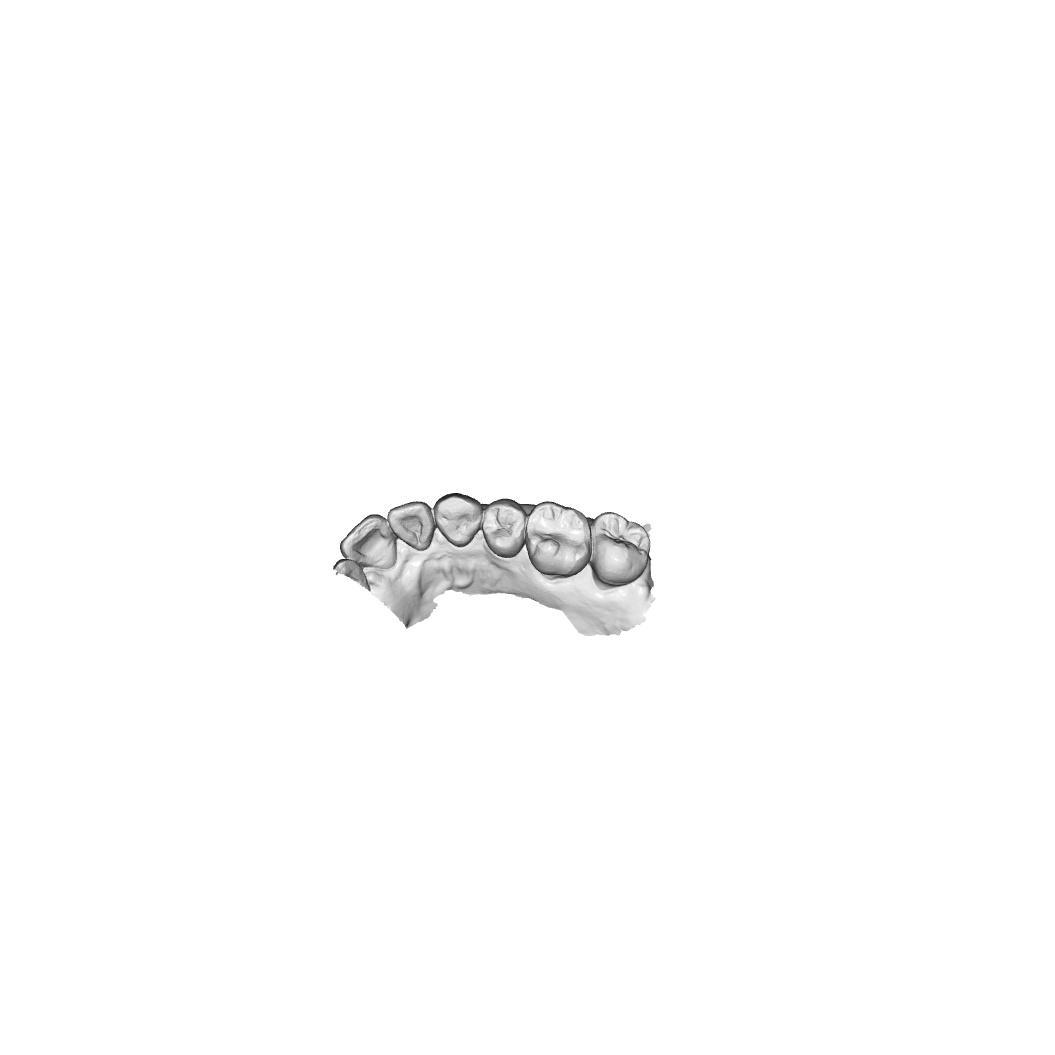canine: (432, 492, 483, 548)
incisor: (337, 513, 399, 571), (386, 500, 435, 552)
molar: (525, 500, 592, 580), (590, 511, 651, 587)
premolar: (482, 498, 527, 559)
